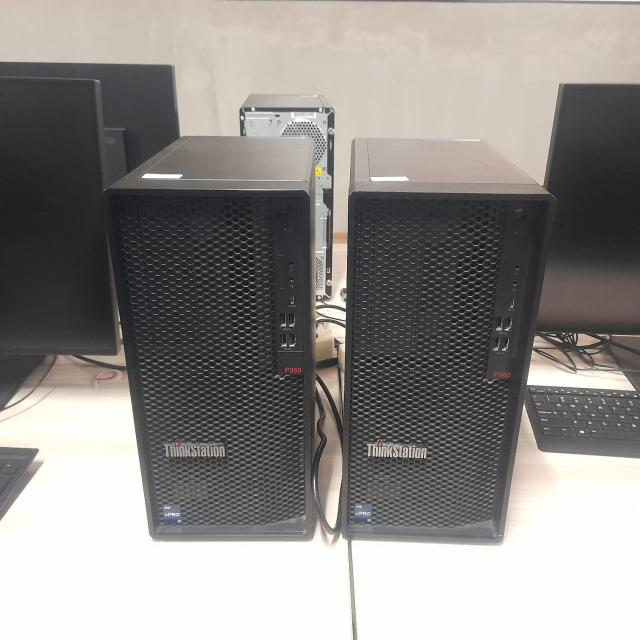keyboard: (523, 385, 640, 459), (0, 448, 39, 512)
monitor: (0, 75, 124, 413), (535, 82, 640, 390), (0, 62, 180, 190)
pc: (337, 138, 556, 544), (102, 135, 317, 542), (240, 93, 334, 301)
